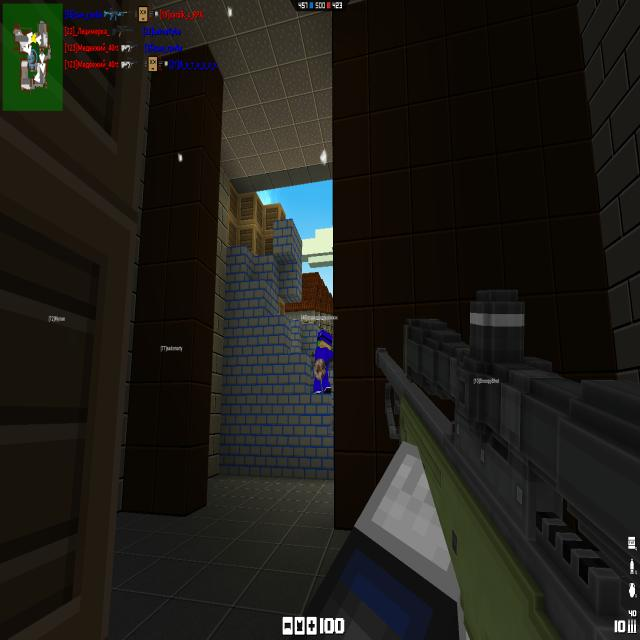player: (313, 325, 334, 397)
